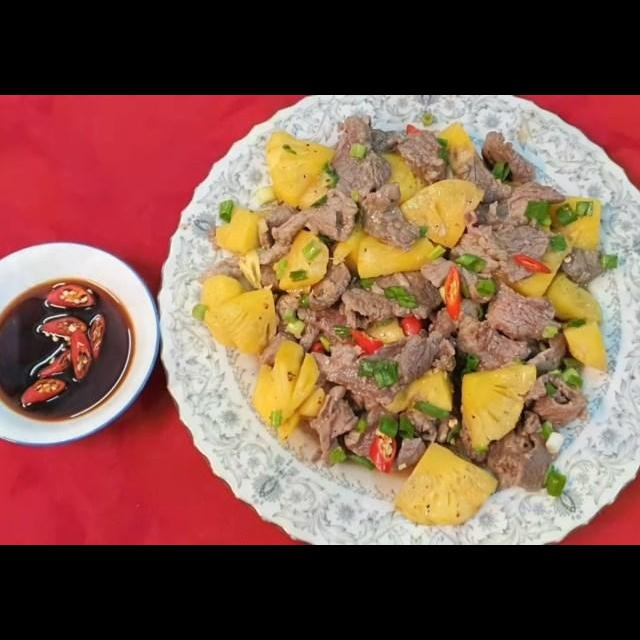thit bo: (299, 295, 488, 418), (416, 176, 569, 308), (479, 365, 591, 494), (302, 110, 396, 245), (302, 381, 435, 475), (255, 254, 355, 373), (193, 196, 305, 291), (482, 279, 573, 376), (338, 263, 446, 334), (450, 127, 541, 203), (267, 180, 361, 252), (350, 177, 429, 253), (362, 124, 450, 186)
